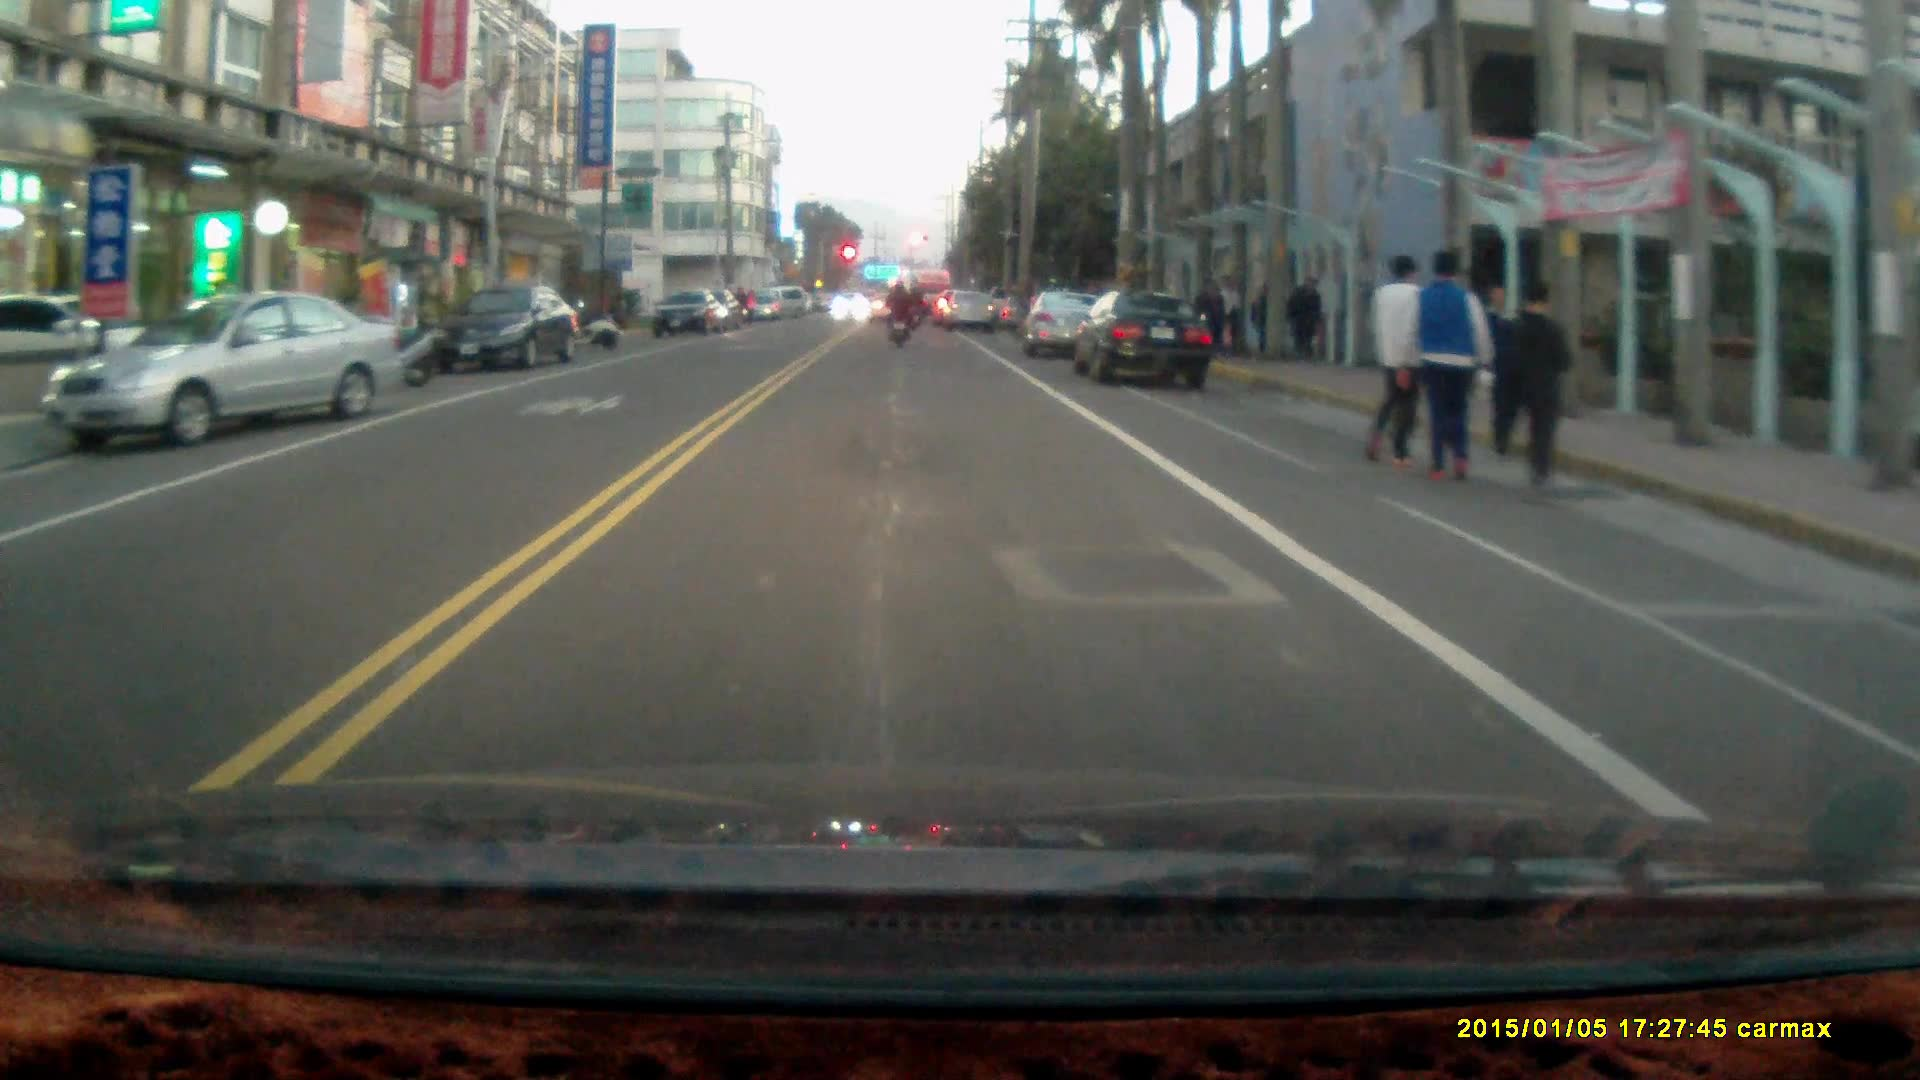pedestrian: (1396, 244, 1493, 485), (1508, 277, 1577, 498), (1362, 249, 1427, 472), (1480, 278, 1527, 462), (1288, 273, 1324, 362), (1189, 276, 1225, 358), (1213, 273, 1243, 362)
rider: (881, 276, 912, 347)
vehicle: (45, 294, 391, 451), (1075, 293, 1219, 391), (440, 284, 582, 372), (1026, 292, 1100, 360), (653, 287, 732, 340), (945, 290, 998, 335)
